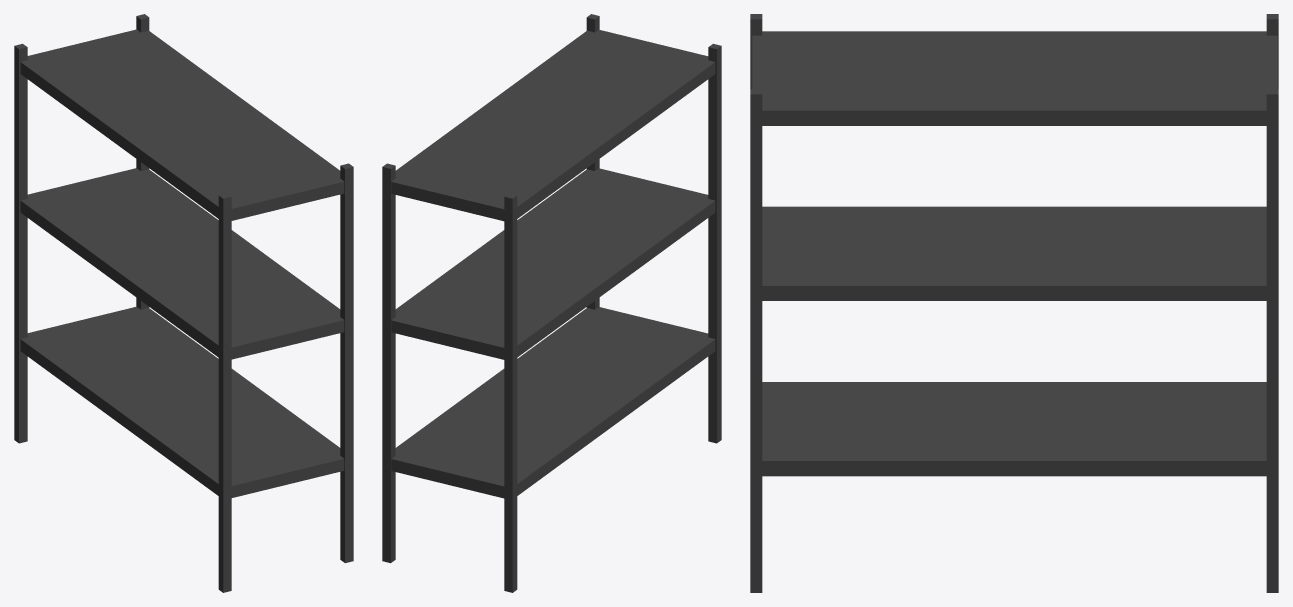
Rendered from stand.glb.
3 renders of one model, left to right at view 1: azimuth 30°, elevation 25°; view 2: azimuth 150°, elevation 25°; view 3: azimuth 270°, elevation 25°, orthographic. The views are drawn at different scales.
Parts seen in each view (by area): view 1: stand; view 2: stand; view 3: stand.
Part boxes in pixels (x1,y1,x2,y2): stand: (14, 14, 353, 592); stand: (382, 14, 721, 592); stand: (750, 14, 1278, 592).
Size of the model in its own units: 2.95 by 8.53 by 8.2.
1 material, 1 textured.
